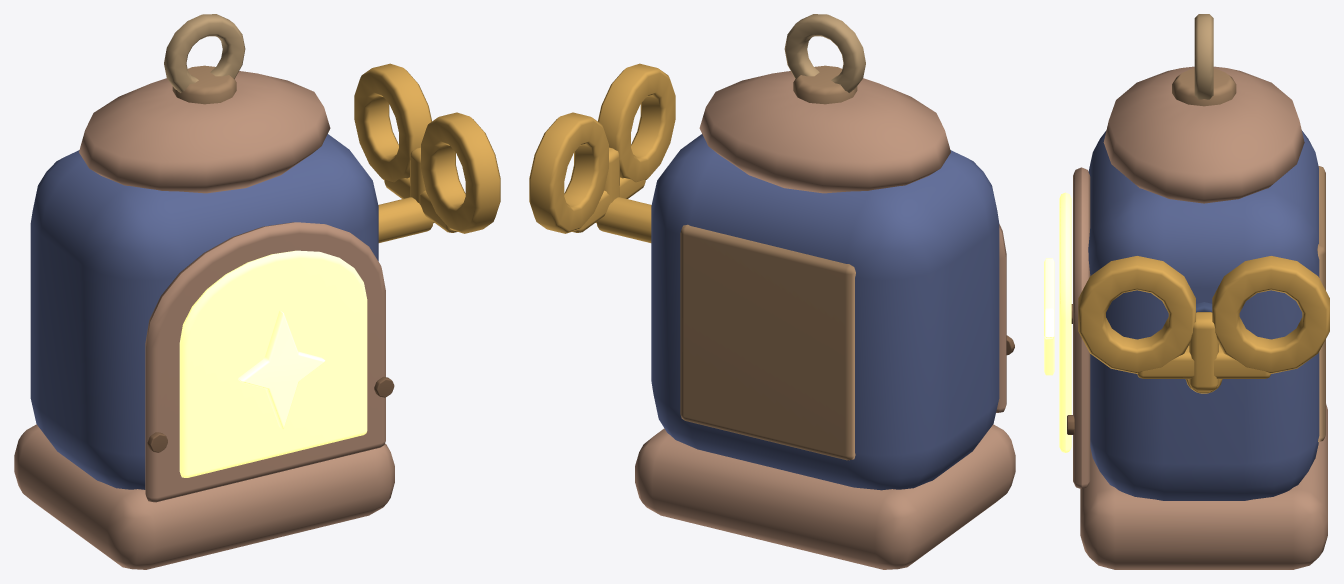
Rendered from windup-lantern.glb.
The picture shows the model from 3 angles, left to right: view 1: azimuth 30°, elevation 25°; view 2: azimuth 150°, elevation 25°; view 3: azimuth 270°, elevation 25°; orthographic projection.
Parts seen in each view (by area): view 1: windup-lantern; view 2: windup-lantern; view 3: windup-lantern.
Part boxes in pixels (box(x1,y1,x2,y2)): windup-lantern: box(14, 14, 500, 569); windup-lantern: box(529, 14, 1015, 569); windup-lantern: box(1044, 14, 1329, 569).
Size of the model in its own units: 0.659 by 0.814 by 0.4267.
